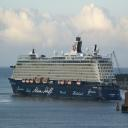cruises: (9, 36, 124, 103)
